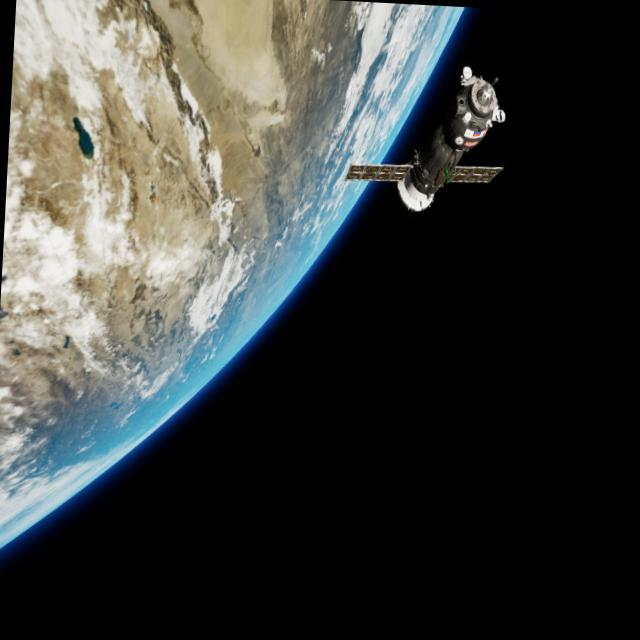Satellites revolving around earth: (344, 59, 509, 238)
